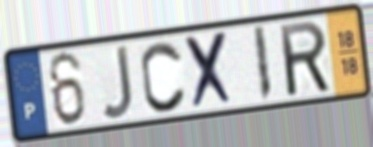6: (47, 49, 89, 129)
C: (139, 38, 189, 115)
I: (251, 23, 274, 104)
J: (99, 42, 136, 122)
R: (276, 18, 334, 100)
X: (182, 28, 237, 113)
